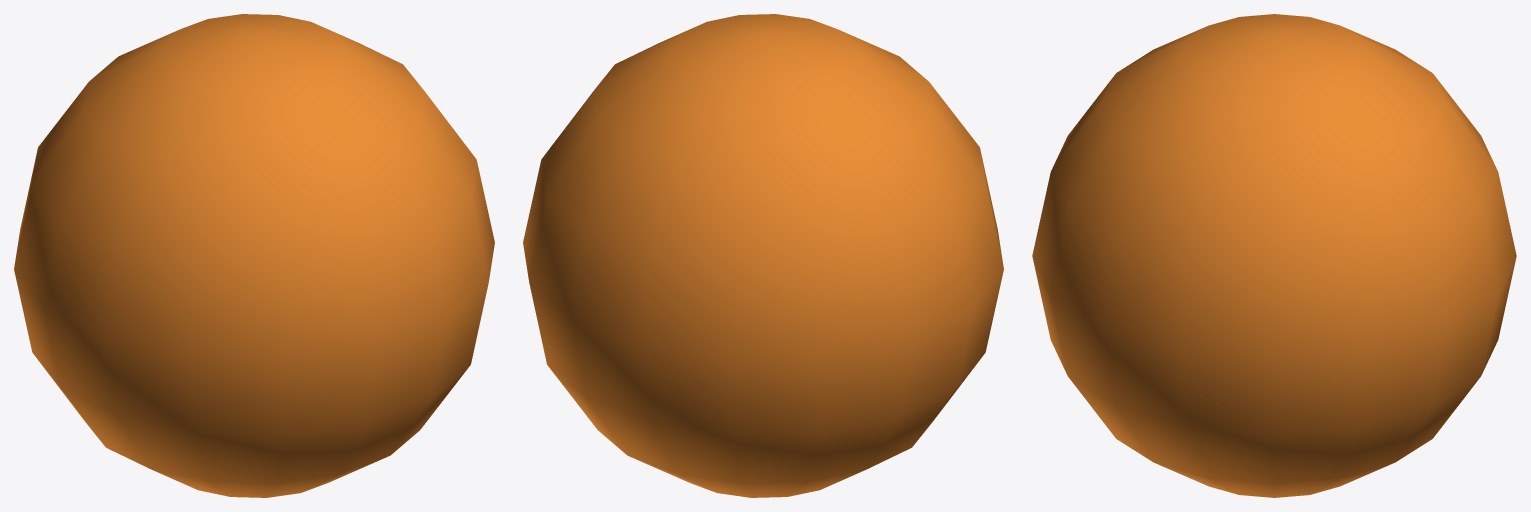
The model's file is doorknob2-new.gltf.
3 views of the same model, side by side, from view 1: azimuth 30°, elevation 25°; view 2: azimuth 150°, elevation 25°; view 3: azimuth 270°, elevation 25° (orthographic).
Bounding box in the file's own units: 0.097 × 0.097 × 0.097.
